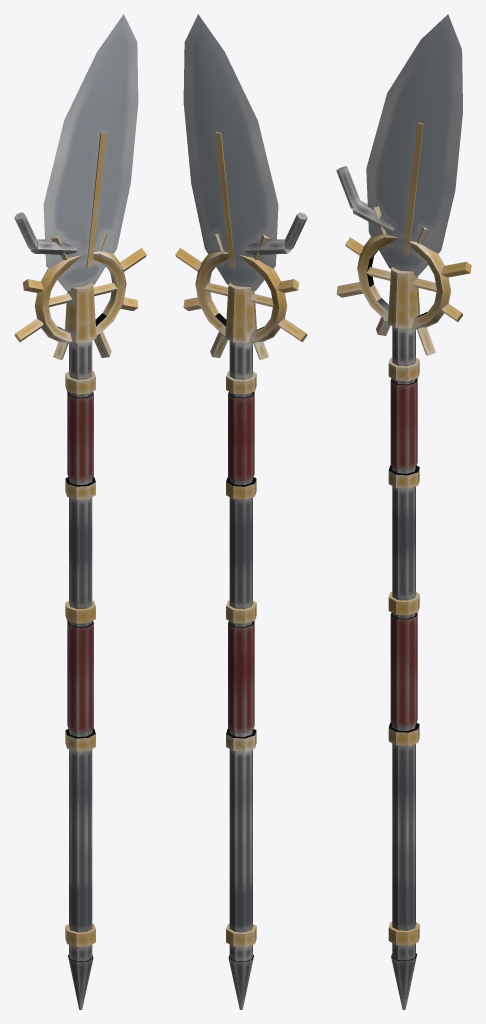
Rendered from weapon_sun_glaive.glb.
3 renders of one model, left to right at view 1: azimuth 30°, elevation 25°; view 2: azimuth 150°, elevation 25°; view 3: azimuth 330°, elevation 25°, orthographic. The views are drawn at different scales.
Parts seen in each view (by area): view 1: weapon_sun_glaive; view 2: weapon_sun_glaive; view 3: weapon_sun_glaive.
Boxes of the visible parts, box(x1,y1,x2,y2) form: weapon_sun_glaive: box(14, 14, 146, 1009); weapon_sun_glaive: box(175, 14, 307, 1009); weapon_sun_glaive: box(336, 14, 471, 1009).
Size of the model in its own units: 0.3626 by 2.62 by 0.08.
Materials: 1 (1 with a texture image).
